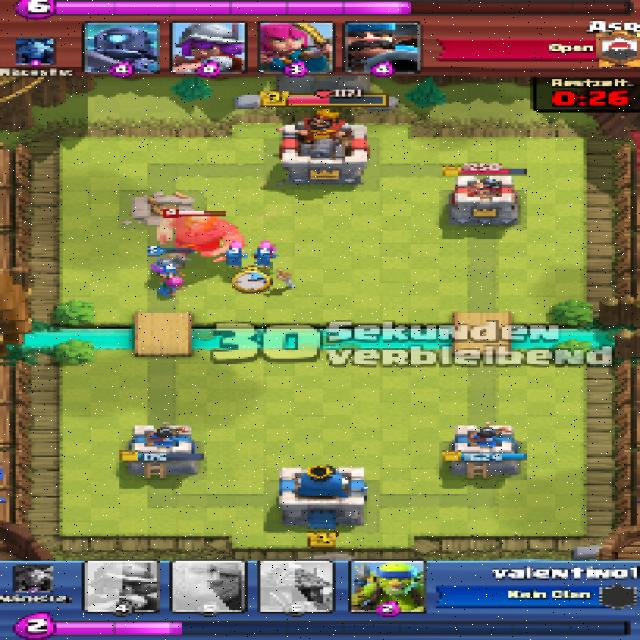Enemy-Giant: (151, 213, 244, 262)
Player-Archer: (252, 240, 280, 266), (226, 241, 250, 267), (157, 278, 182, 298)
Player-Musketeer: (151, 256, 187, 279)
